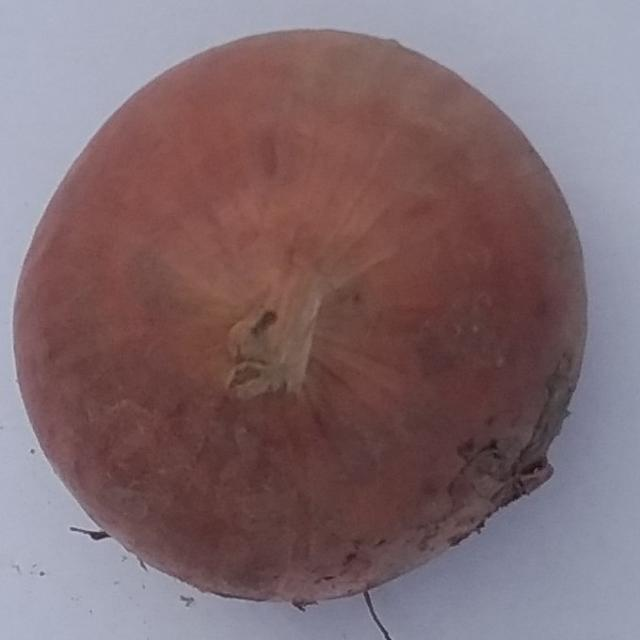onion: (8, 28, 598, 616)
